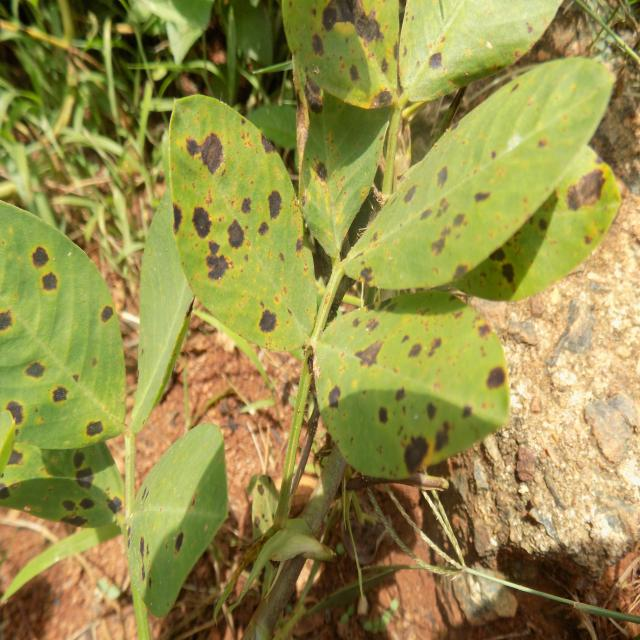Ground nut_tikka leaf spot: (342, 50, 611, 282), (173, 96, 317, 354), (312, 289, 511, 471)
